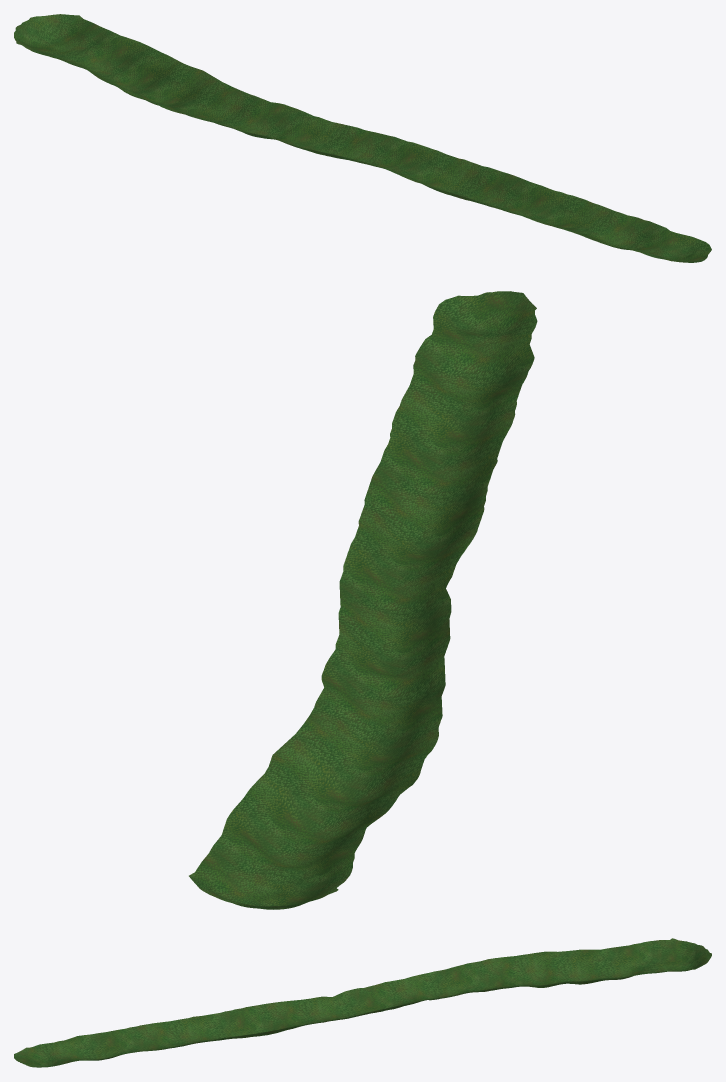
File: River.fbx
The picture shows the model from 3 angles, top to bottom: view 1: azimuth 30°, elevation 25°; view 2: azimuth 150°, elevation 25°; view 3: azimuth 270°, elevation 25°; orthographic projection. The views are drawn at different scales.
Parts seen in each view (by area): view 1: RiverTerrain; view 2: RiverTerrain; view 3: RiverTerrain.
Boxes of the visible parts, bbox=[...] form: RiverTerrain: bbox=[14, 14, 711, 262]; RiverTerrain: bbox=[189, 291, 537, 909]; RiverTerrain: bbox=[14, 938, 711, 1067].
Size of the model in its own units: 7031 by 445 by 16162.
